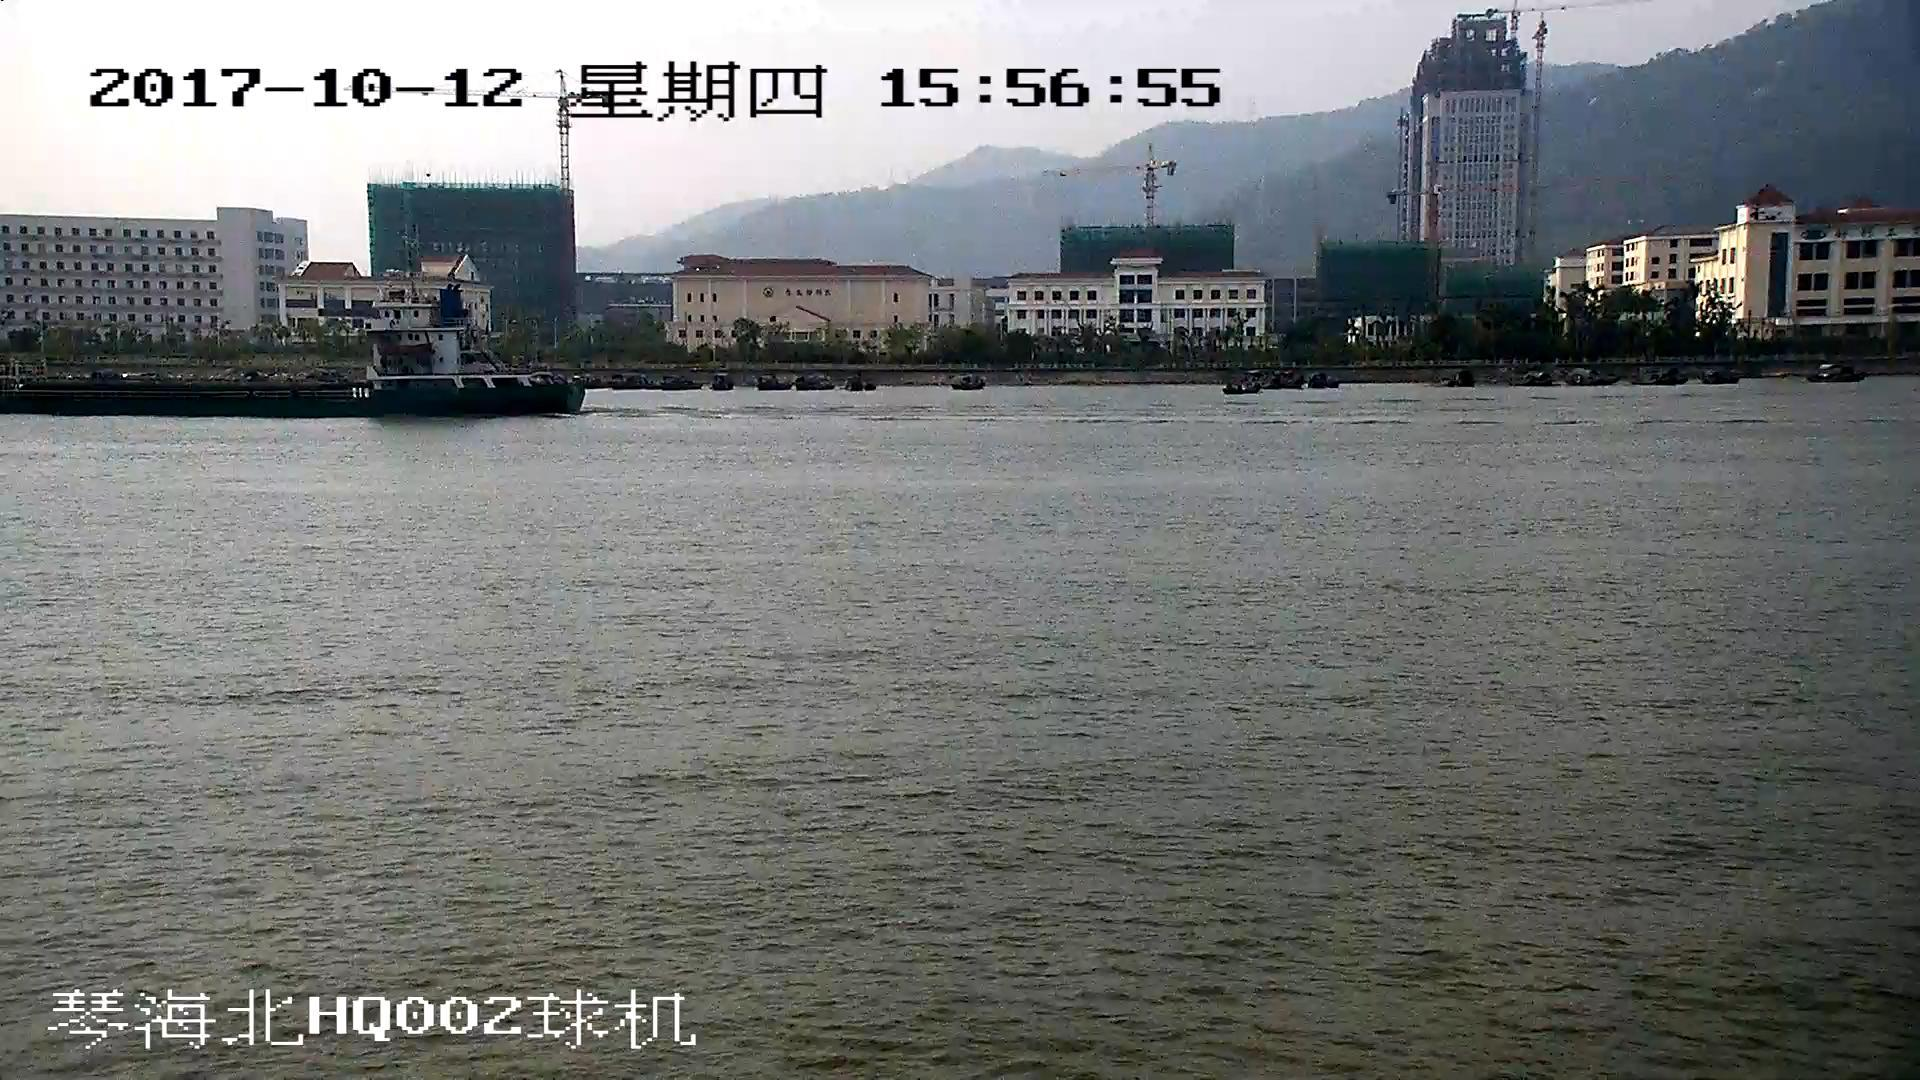Ship: (3, 301, 585, 419)
